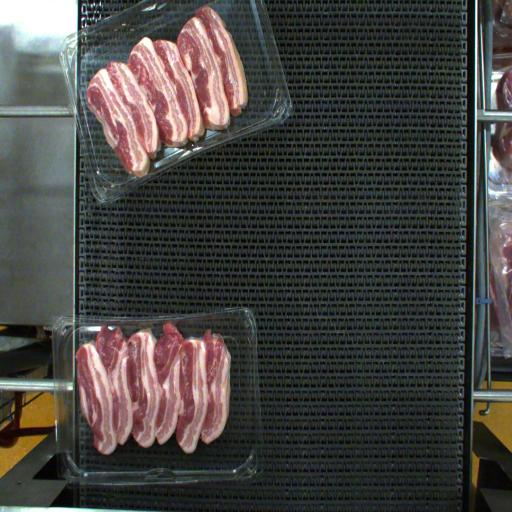packaging-error: (75, 310, 227, 363)
